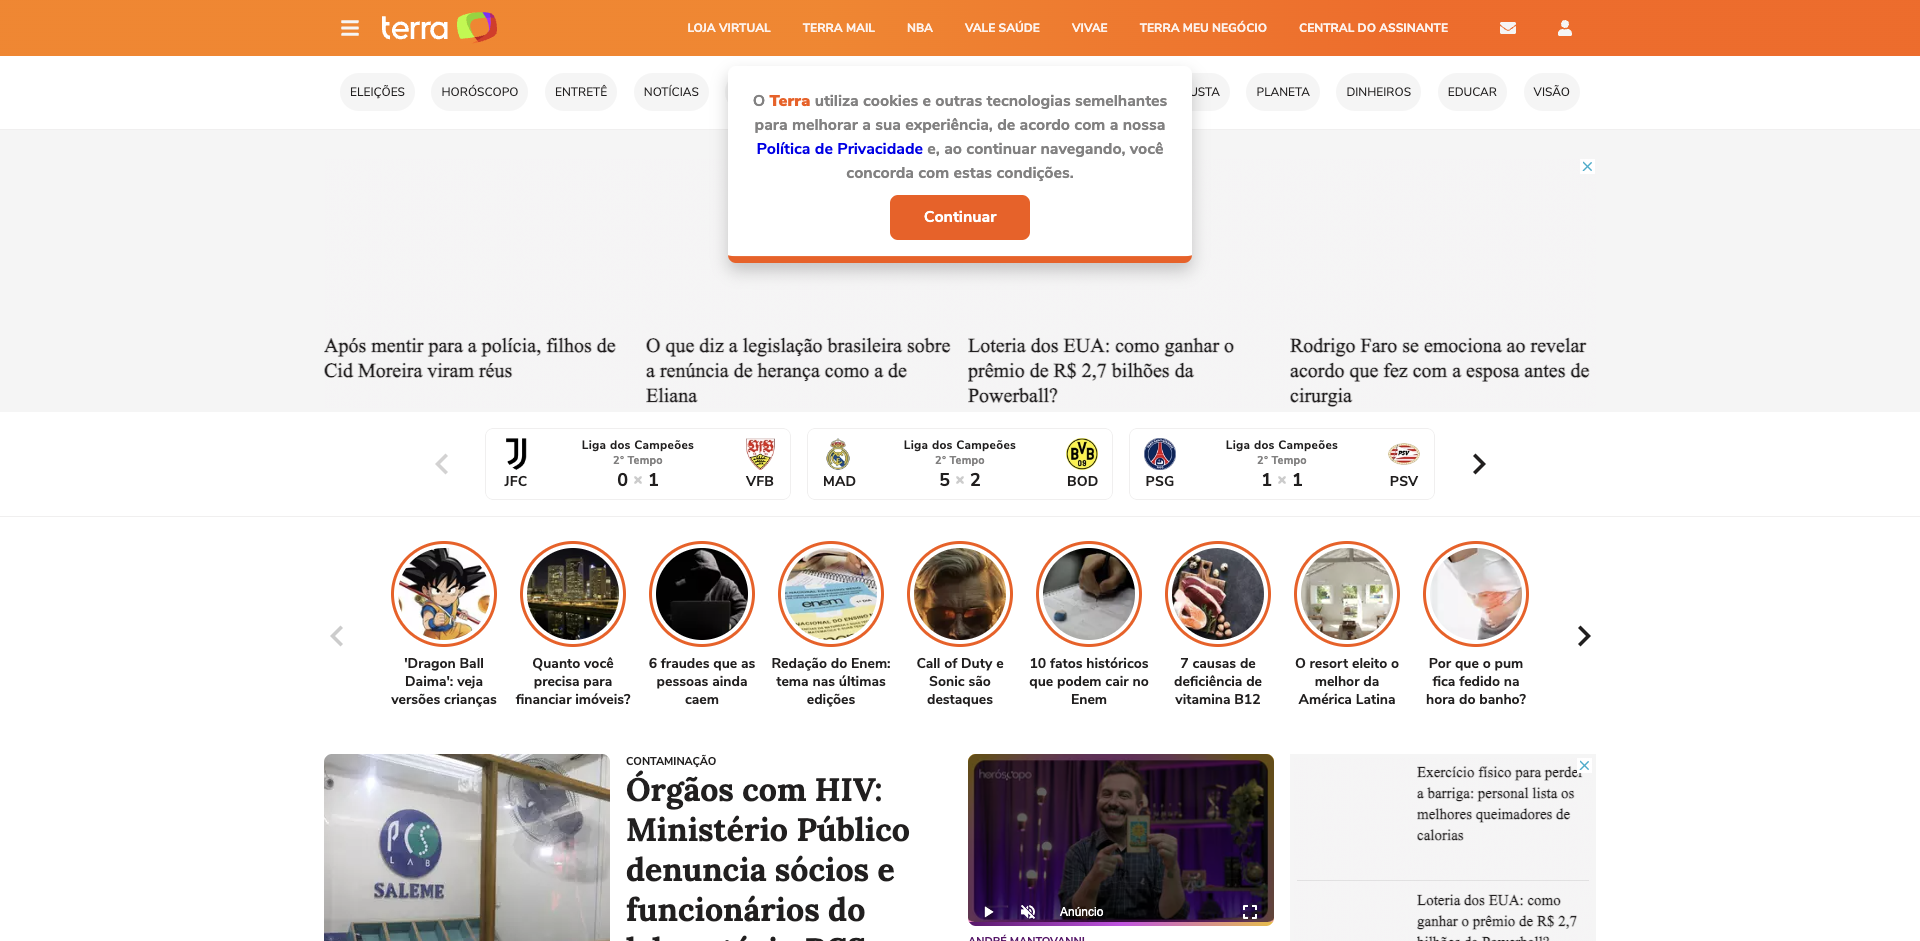button: (324, 542, 348, 730), (1572, 542, 1596, 730), (1008, 897, 1048, 920), (969, 897, 1008, 920), (1229, 901, 1270, 923), (1226, 769, 1258, 794)
link: (626, 769, 951, 941), (384, 542, 504, 727), (513, 542, 633, 727), (642, 542, 762, 727), (771, 542, 891, 727), (900, 542, 1020, 727), (1029, 542, 1149, 727), (1158, 542, 1278, 727), (1287, 542, 1407, 727), (1416, 542, 1536, 727), (1545, 542, 1665, 727), (1674, 542, 1794, 727), (485, 428, 791, 500), (807, 428, 1113, 500), (1129, 428, 1435, 500), (1451, 428, 1757, 500), (1802, 542, 1920, 727), (1773, 428, 1920, 500), (431, 74, 529, 111), (382, 12, 497, 44), (913, 74, 1008, 111), (1336, 74, 1422, 111), (725, 74, 806, 111), (1299, 18, 1449, 38), (340, 74, 415, 111), (634, 74, 709, 111), (823, 74, 898, 111), (1155, 74, 1229, 111), (1247, 74, 1320, 111), (545, 74, 617, 111), (1507, 132, 1580, 170), (1438, 74, 1507, 111), (1140, 18, 1267, 38), (1523, 74, 1580, 111), (1086, 74, 1138, 111), (340, 132, 389, 170), (1024, 74, 1069, 111), (687, 18, 770, 38), (965, 18, 1040, 38), (803, 18, 876, 38), (969, 934, 1085, 941), (1071, 18, 1108, 38), (907, 18, 933, 38), (1500, 20, 1516, 36)
